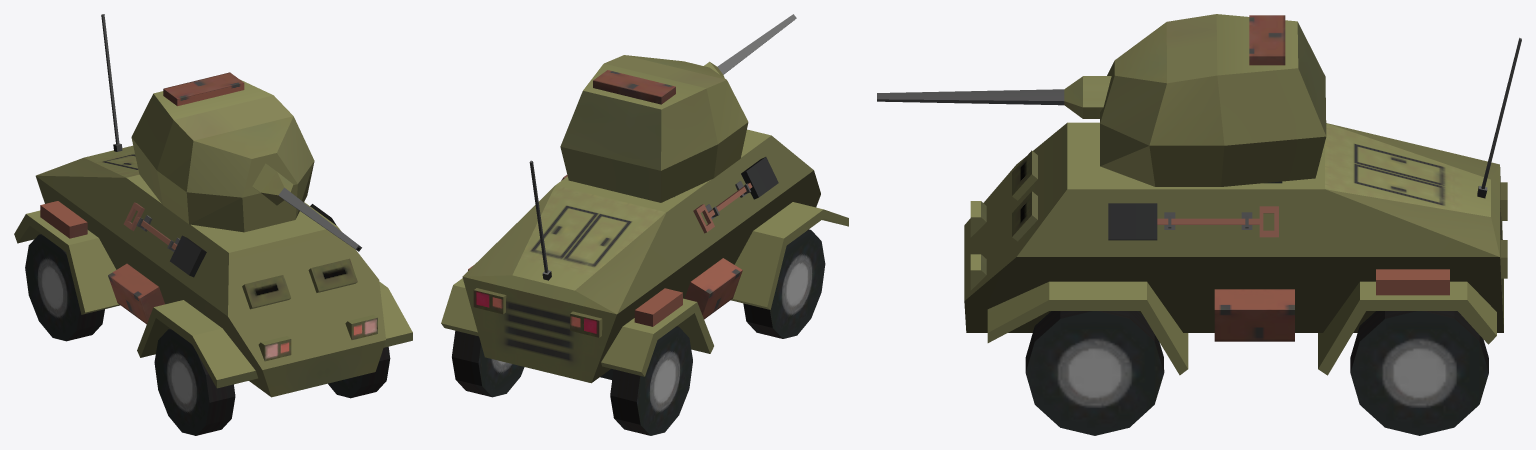
Rendered from tank05.FBX.
The picture shows the model from 3 angles, left to right: view 1: azimuth 30°, elevation 25°; view 2: azimuth 150°, elevation 25°; view 3: azimuth 270°, elevation 25°; orthographic projection. The views are drawn at different scales.
Visible parts, largest first — view 1: tank05; view 2: tank05; view 3: tank05.
Part boxes in pixels (box(x1,y1,x2,y2)): tank05: box(14, 14, 412, 435); tank05: box(441, 14, 848, 435); tank05: box(877, 14, 1521, 435).
Size of the model in its own units: 3.41 by 4.57 by 7.75.
